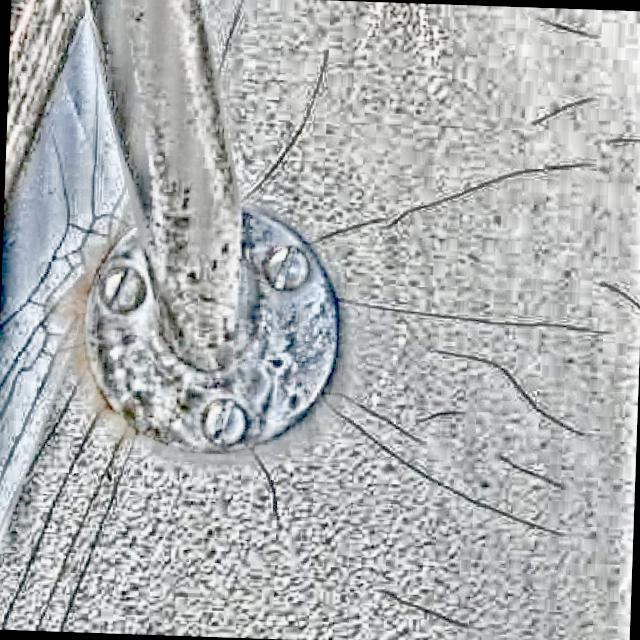crack: (280, 416, 588, 544), (284, 144, 584, 258), (330, 274, 612, 332), (246, 50, 346, 196), (433, 349, 584, 437), (322, 390, 443, 452), (344, 581, 488, 629), (242, 441, 286, 558), (477, 451, 568, 498)
